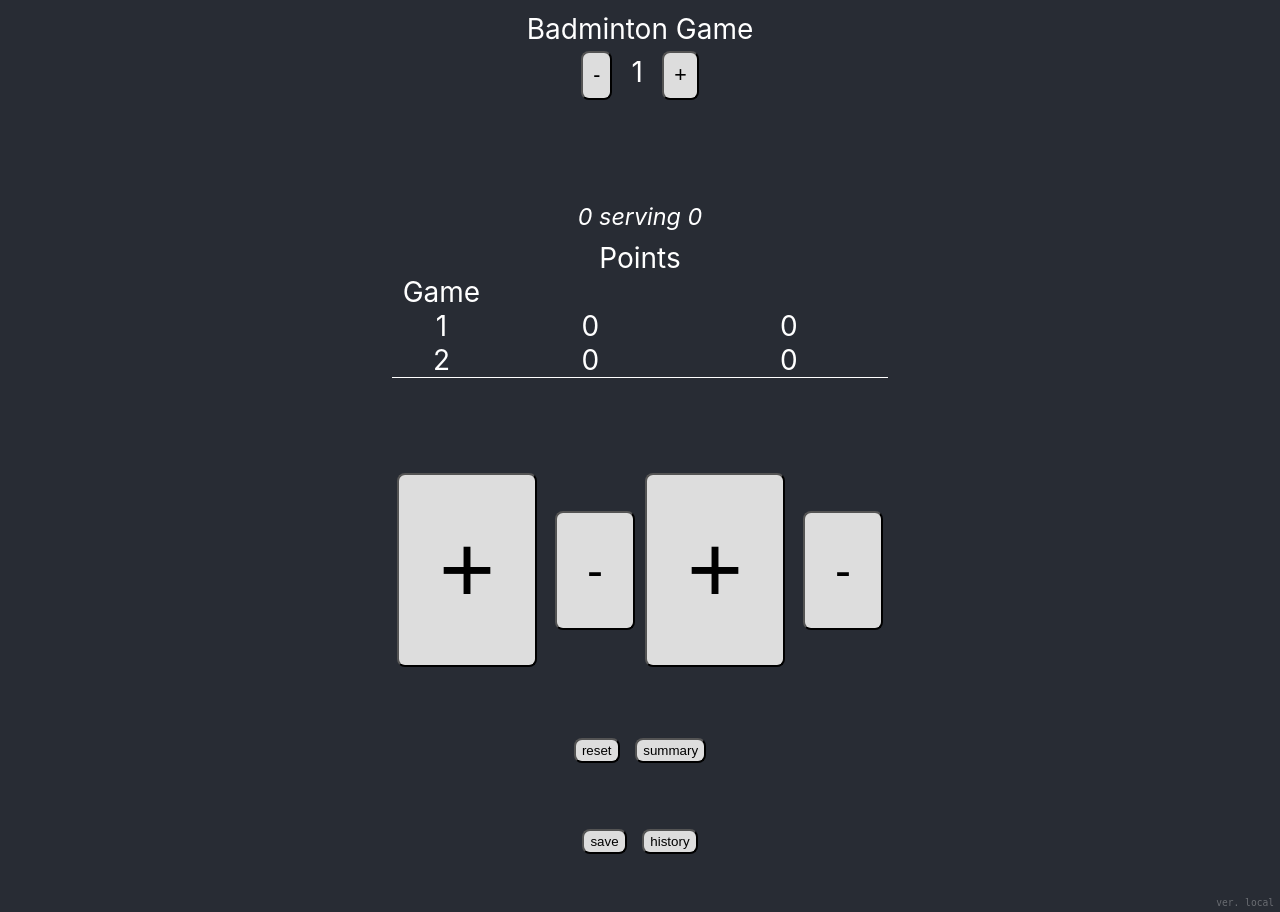
Scenario: Flyers + Increases correct shot counter
This screenshot has width=1280, height=912.
Check: the 1st text with class "flyers" reads "0", box [582,309,599,343]
Step 1. Click the 2nd button "+" → (467, 570), box [397,473,537,667]
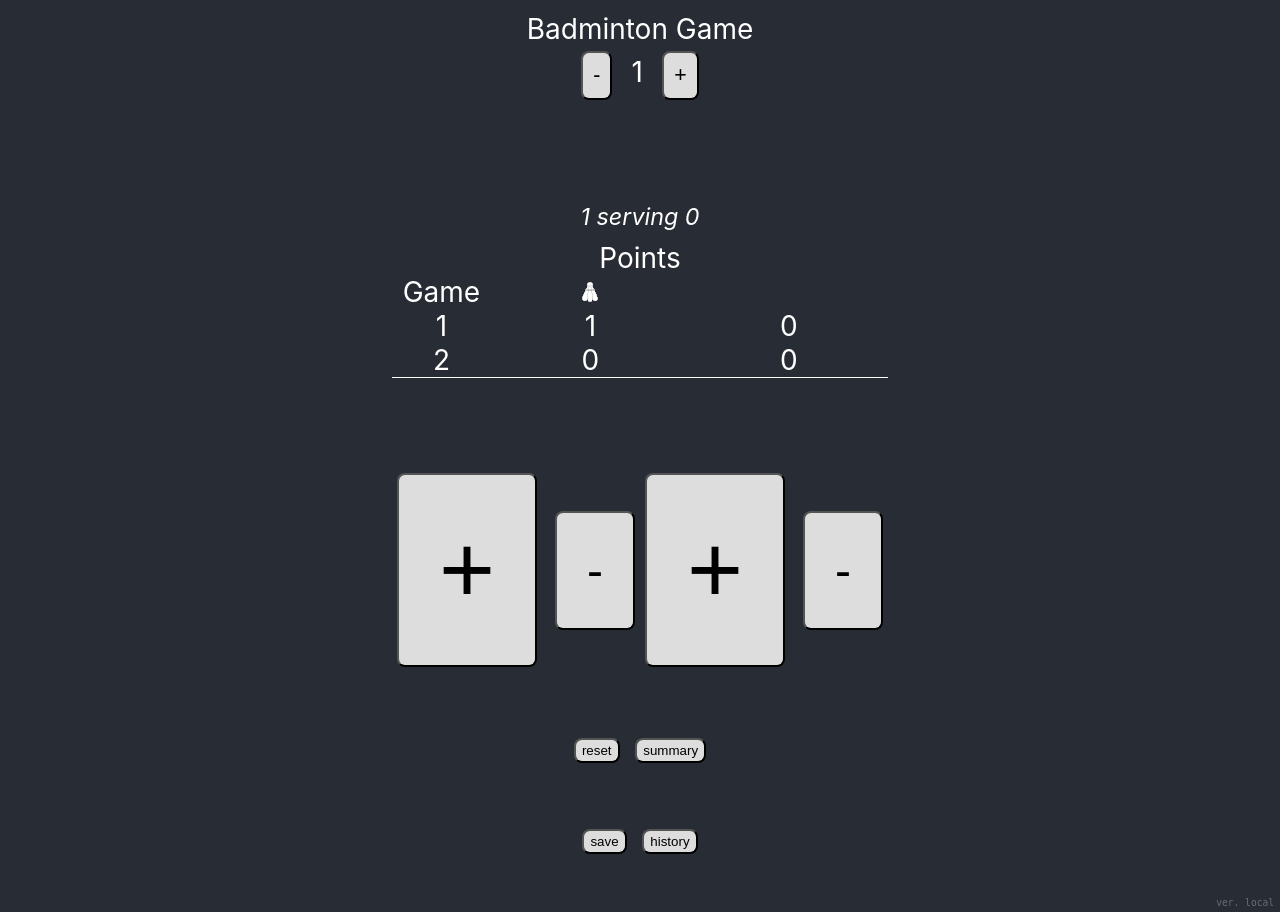
Check: the 3rd text with class "flyers" reads "1", box [585,309,596,343]
Step 2. Click the 2nd button "+" → (467, 570), box [397,473,537,667]
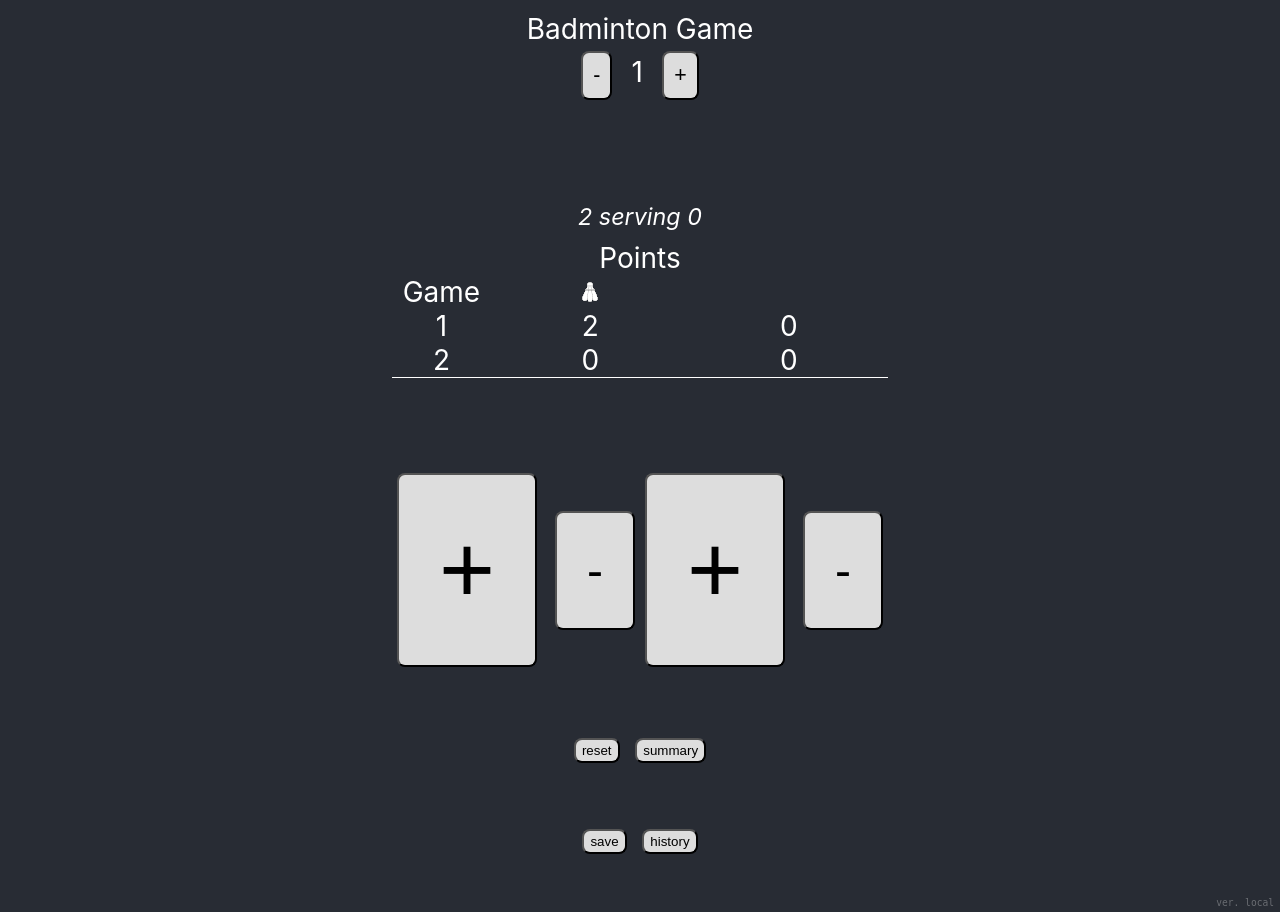
Check: the 1st text with class "flyers" reads "2", box [582,309,599,343]
Step 3. Click the 2nd button "+" → (467, 570), box [397,473,537,667]
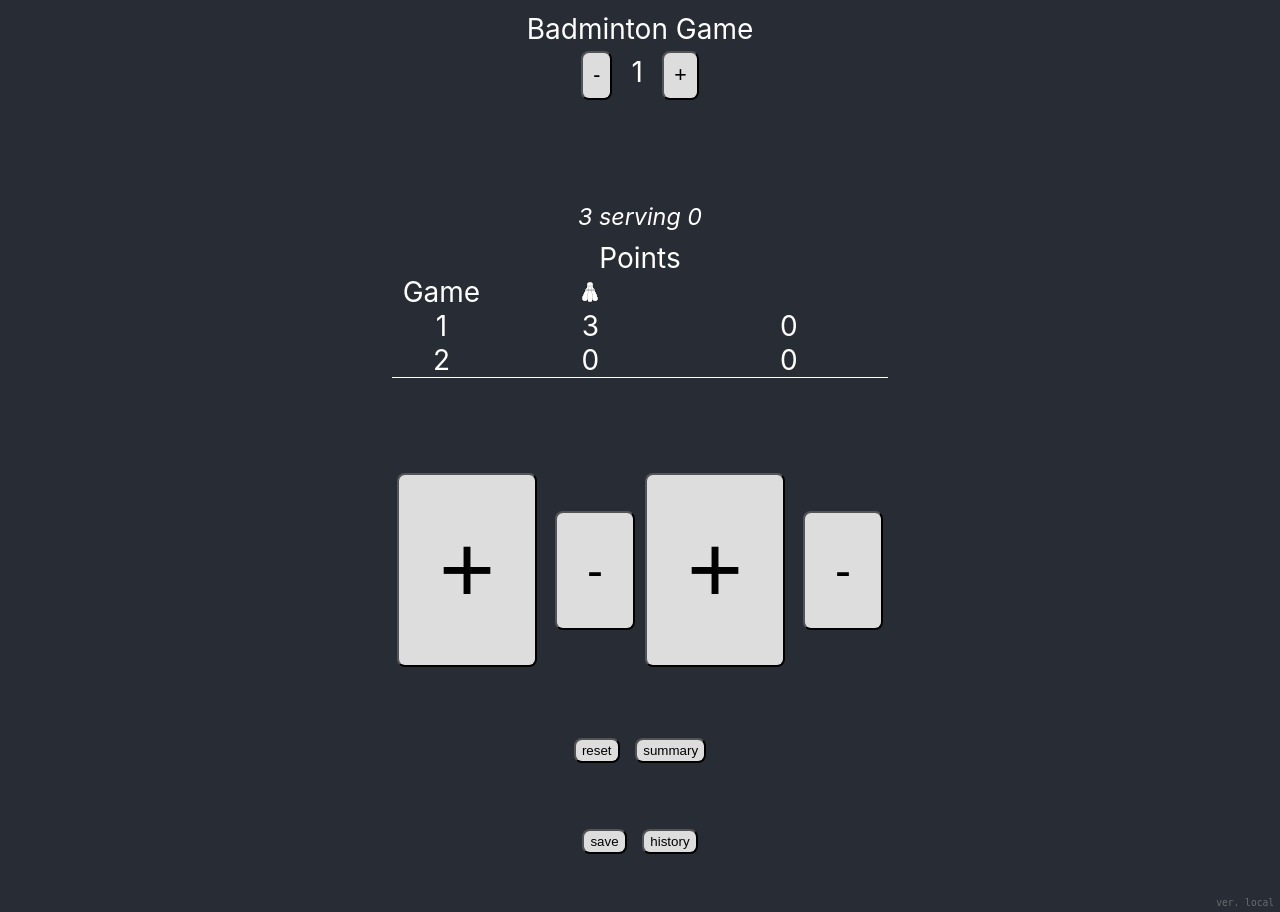
Check: the text with class "flyers" reads "3", box [582,309,599,343]
